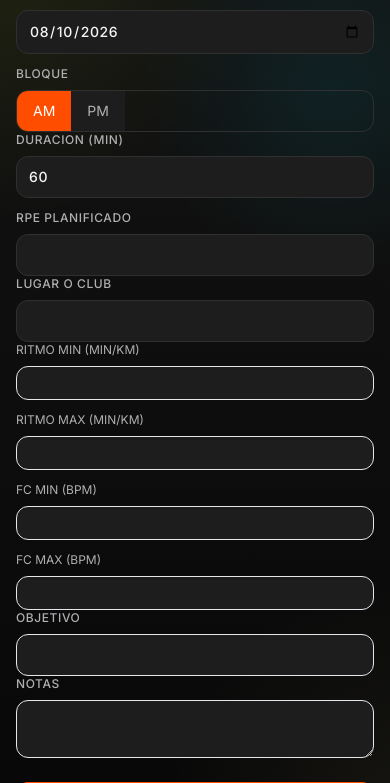
Scenario: A3: ritmos manuales incompatibles con los bloques no se guardan
(page scrolled)
Type "6:30" into the field labelled "Ritmo min (min/km)" at [195, 383], box [16,366,374,400]
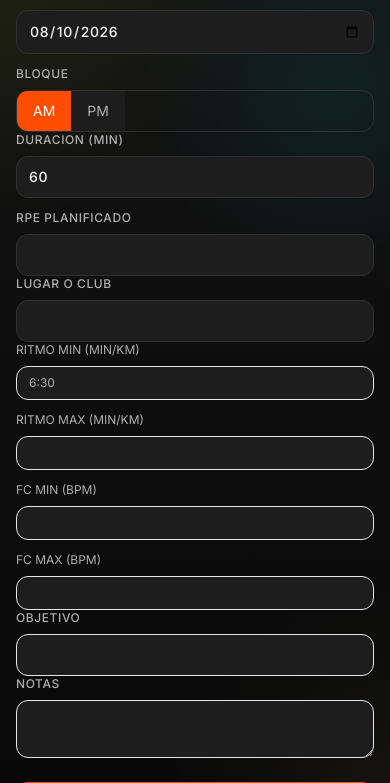
Type "7:00" into the field labelled "Ritmo max (min/km)" at [195, 453], box [16,436,374,470]
(page scrolled)
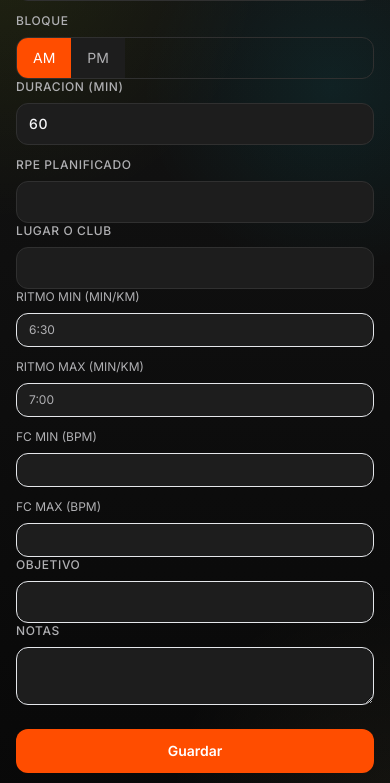
Click the button "Guardar" at [195, 751], box [16,729,374,773]
(page scrolled)
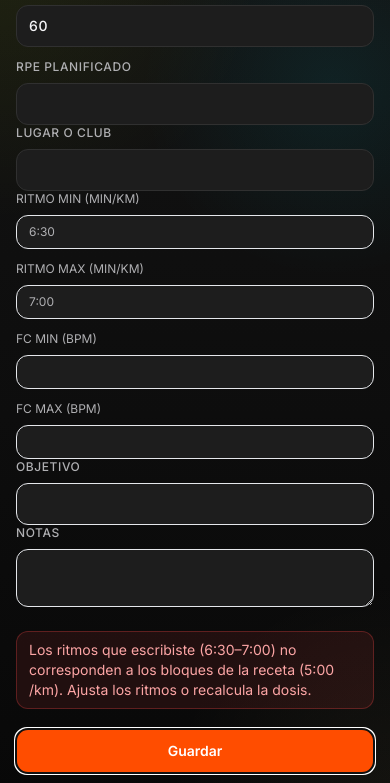
Expected: the message shows "no corresponden a los bloques", [29,641,334,698]
